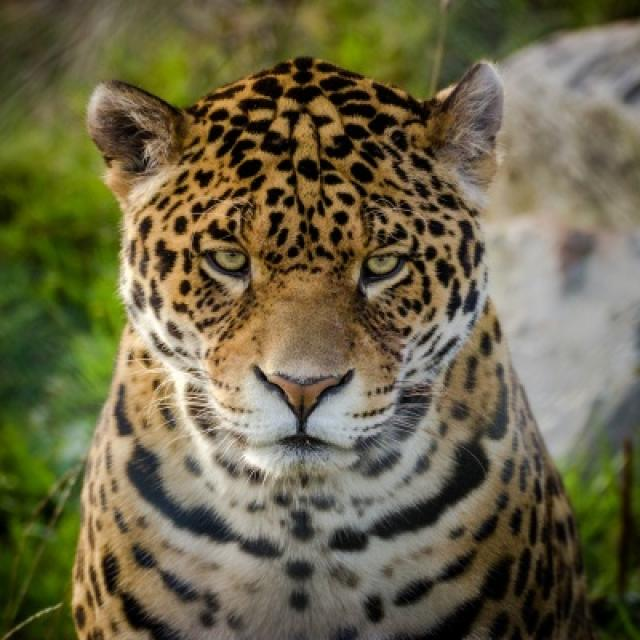Jaguar: (69, 56, 597, 638)
